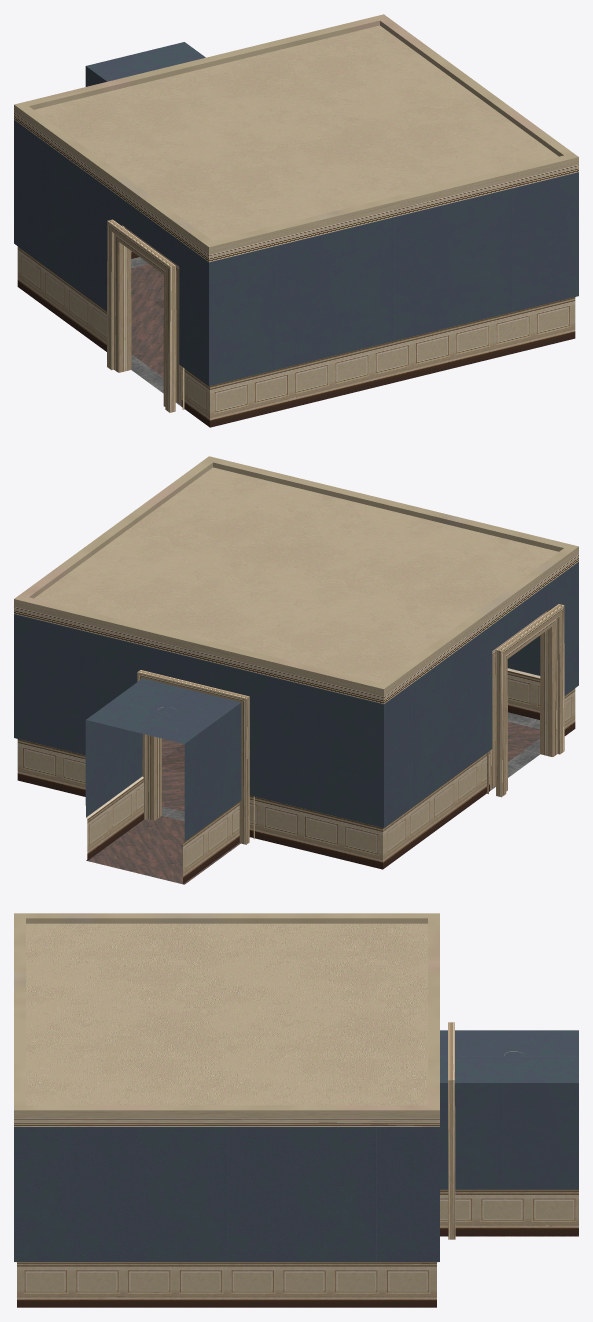
The model's file is Room_05.dae.
3 renders of one model, top to bottom at view 1: azimuth 30°, elevation 25°; view 2: azimuth 150°, elevation 25°; view 3: azimuth 270°, elevation 25°, orthographic. The views are drawn at different scales.
Parts seen in each view (by area): view 1: Room_05 (×5); view 2: Room_05 (×5); view 3: Room_05 (×3).
Part boxes in pixels (box(x1,y1,x2,y2)): Room_05 (×5): box(14, 14, 578, 427); Room_05 (×5): box(14, 456, 578, 884); Room_05 (×3): box(14, 913, 578, 1307).
Size of the model in its own units: 1626 by 740 by 1907.
10 materials, 10 textured.
